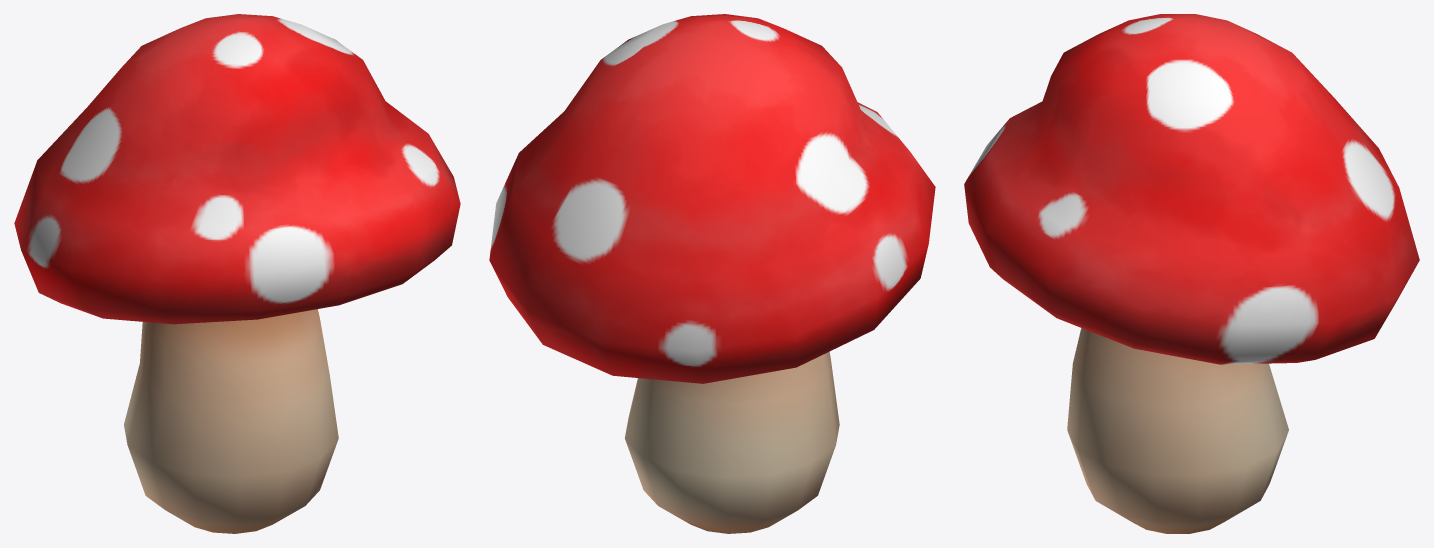
File: Env_mesh_Mushroom.fbx
The picture shows the model from 3 angles, left to right: view 1: azimuth 30°, elevation 25°; view 2: azimuth 150°, elevation 25°; view 3: azimuth 270°, elevation 25°; orthographic projection. The views are drawn at different scales.
Visible parts, largest first — view 1: Mushroom; view 2: Mushroom; view 3: Mushroom.
Part boxes in pixels (left/top/right/bottom): Mushroom: left=14, top=14, right=460, bottom=533; Mushroom: left=489, top=14, right=935, bottom=533; Mushroom: left=964, top=14, right=1419, bottom=533.
Size of the model in its own units: 81.58 by 99.26 by 82.34.
